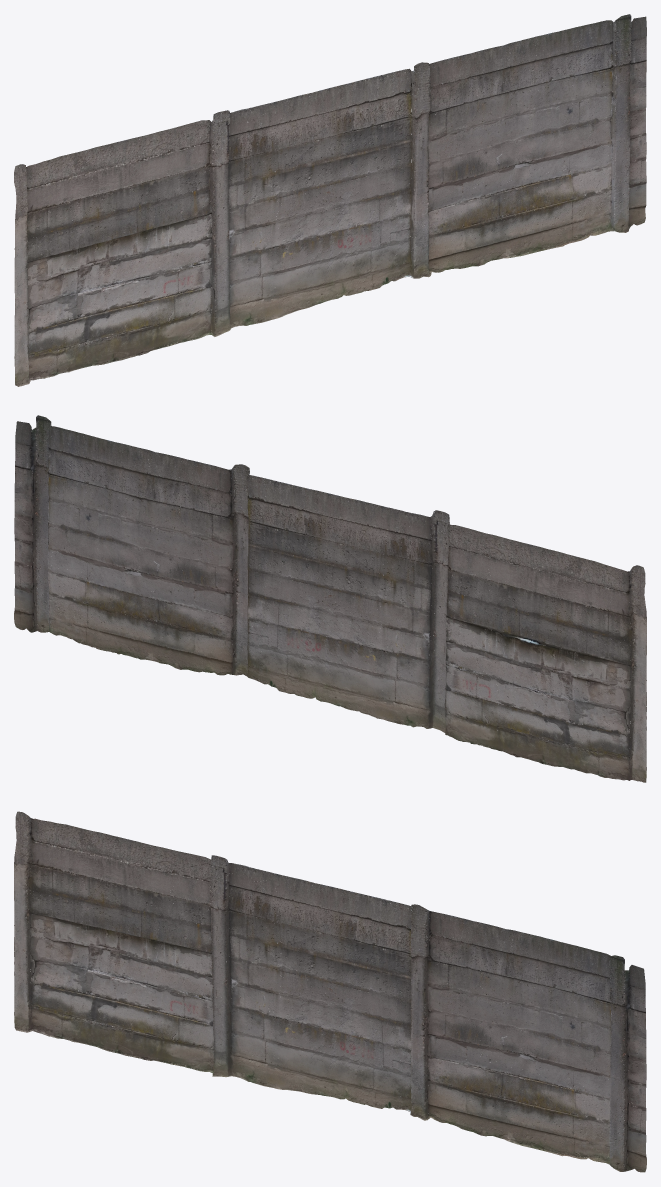
File: sf-classic-reinforced-concrete-fence-ba665a.glb
3 views of the same model, one above another, from view 1: azimuth 30°, elevation 25°; view 2: azimuth 150°, elevation 25°; view 3: azimuth 330°, elevation 25° (orthographic).
Parts seen in each view (by area): view 1: mur_beton_mur_beton_u1_v1_0, mur_beton_mur_beton_u2_v1_0; view 2: mur_beton_mur_beton_u1_v1_0, mur_beton_mur_beton_u2_v1_0; view 3: mur_beton_mur_beton_u1_v1_0, mur_beton_mur_beton_u2_v1_0.
Boxes of the visible parts, left/top/right/bottom form: mur_beton_mur_beton_u1_v1_0: left=16, top=16, right=646, bottom=386; mur_beton_mur_beton_u2_v1_0: left=14, top=14, right=646, bottom=385; mur_beton_mur_beton_u1_v1_0: left=14, top=421, right=634, bottom=780; mur_beton_mur_beton_u2_v1_0: left=14, top=415, right=646, bottom=782; mur_beton_mur_beton_u1_v1_0: left=15, top=815, right=646, bottom=1172; mur_beton_mur_beton_u2_v1_0: left=14, top=811, right=646, bottom=1171.
Size of the model in its own units: 7.82 by 2.67 by 0.1688.
Materials: 2 (2 with a texture image).
